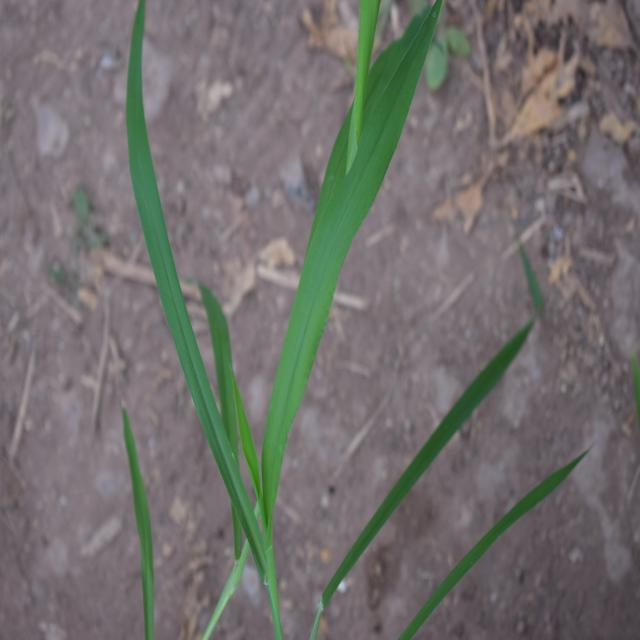crabgrass: (96, 0, 487, 584)
